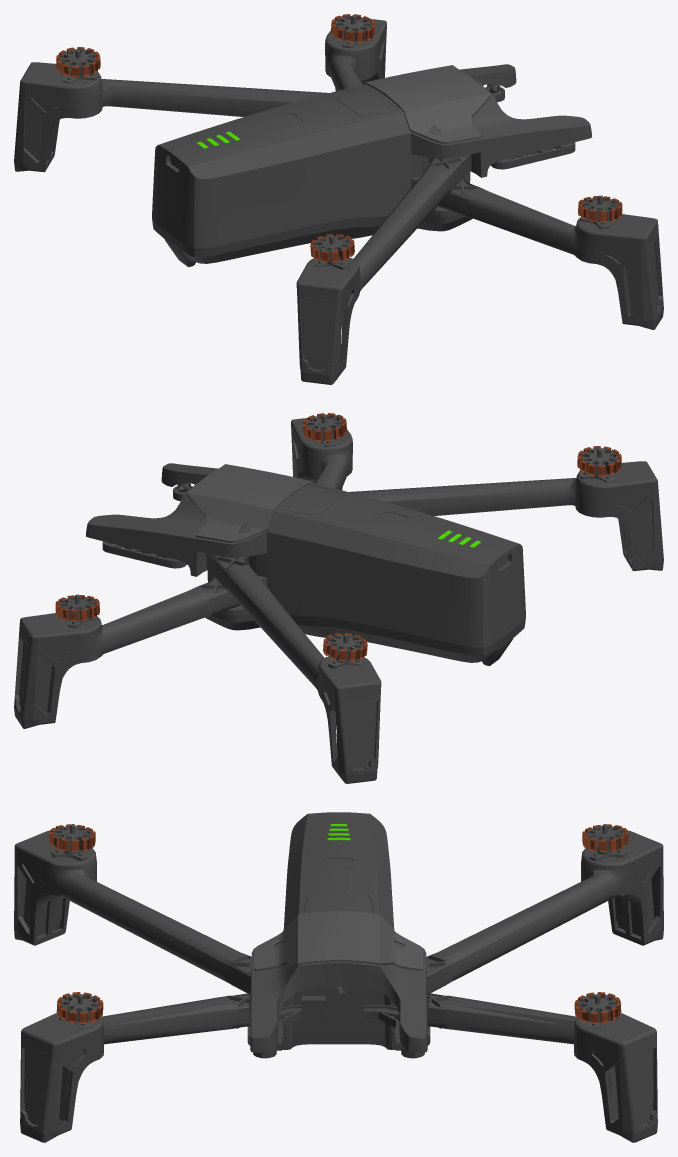
Rendered from hull.dae.
3 renders of one model, top to bottom at view 1: azimuth 30°, elevation 25°; view 2: azimuth 150°, elevation 25°; view 3: azimuth 270°, elevation 25°, orthographic. The views are drawn at different scales.
Parts seen in each view (by area): view 1: Drone; view 2: Drone; view 3: Drone.
Boxes of the visible parts, box(x1,y1,x2,y2) form: Drone: box(14, 14, 663, 384); Drone: box(14, 413, 663, 783); Drone: box(14, 812, 663, 1142).
Bounding box in the file's own units: 0.1753 × 0.2394 × 0.0661.
